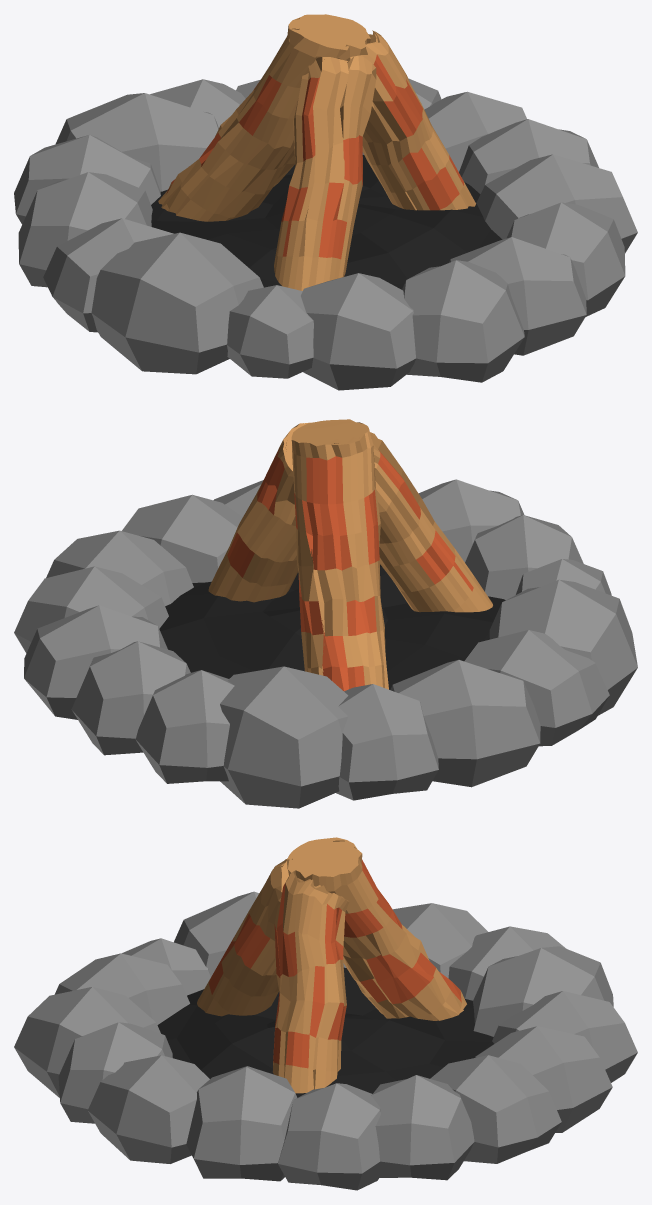
The model's file is campfire.fbx.
3 views of the same model, one above another, from view 1: azimuth 30°, elevation 25°; view 2: azimuth 150°, elevation 25°; view 3: azimuth 270°, elevation 25° (orthographic). The views are drawn at different scales.
Visible parts, largest first — view 1: Sphere; view 2: Sphere; view 3: Sphere.
Part boxes in pixels (x1,y1,x2,y2): Sphere: (14,14,637,390); Sphere: (14,419,637,808); Sphere: (14,837,637,1190).
Size of the model in its own units: 265 by 121 by 286.
